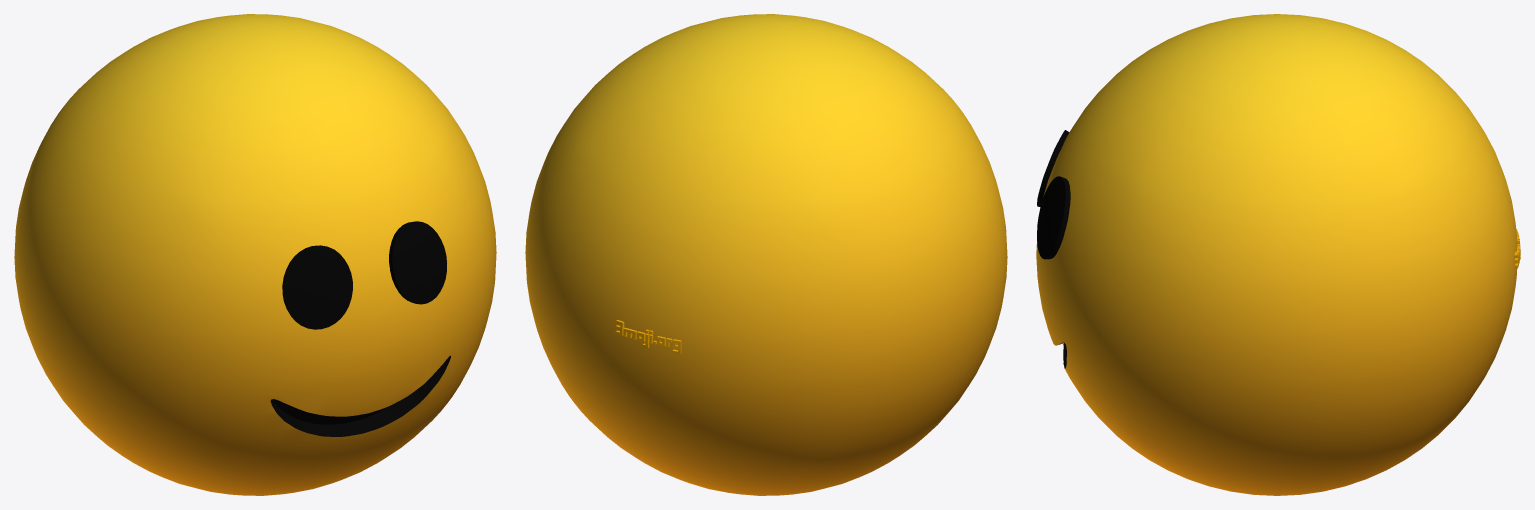
Rendered from slightly_smiling_face.glb.
3 views of the same model, side by side, from view 1: azimuth 30°, elevation 25°; view 2: azimuth 150°, elevation 25°; view 3: azimuth 270°, elevation 25° (orthographic).
Parts seen in each view (by area): view 1: Slightly Smiling Face; view 2: Slightly Smiling Face; view 3: Slightly Smiling Face.
Part boxes in pixels (x1,y1,x2,y2): Slightly Smiling Face: (14,14,496,495); Slightly Smiling Face: (525,14,1007,495); Slightly Smiling Face: (1036,14,1520,495).
Size of the model in its own units: 1.69 by 1.69 by 1.7.
1 material, 1 textured.
